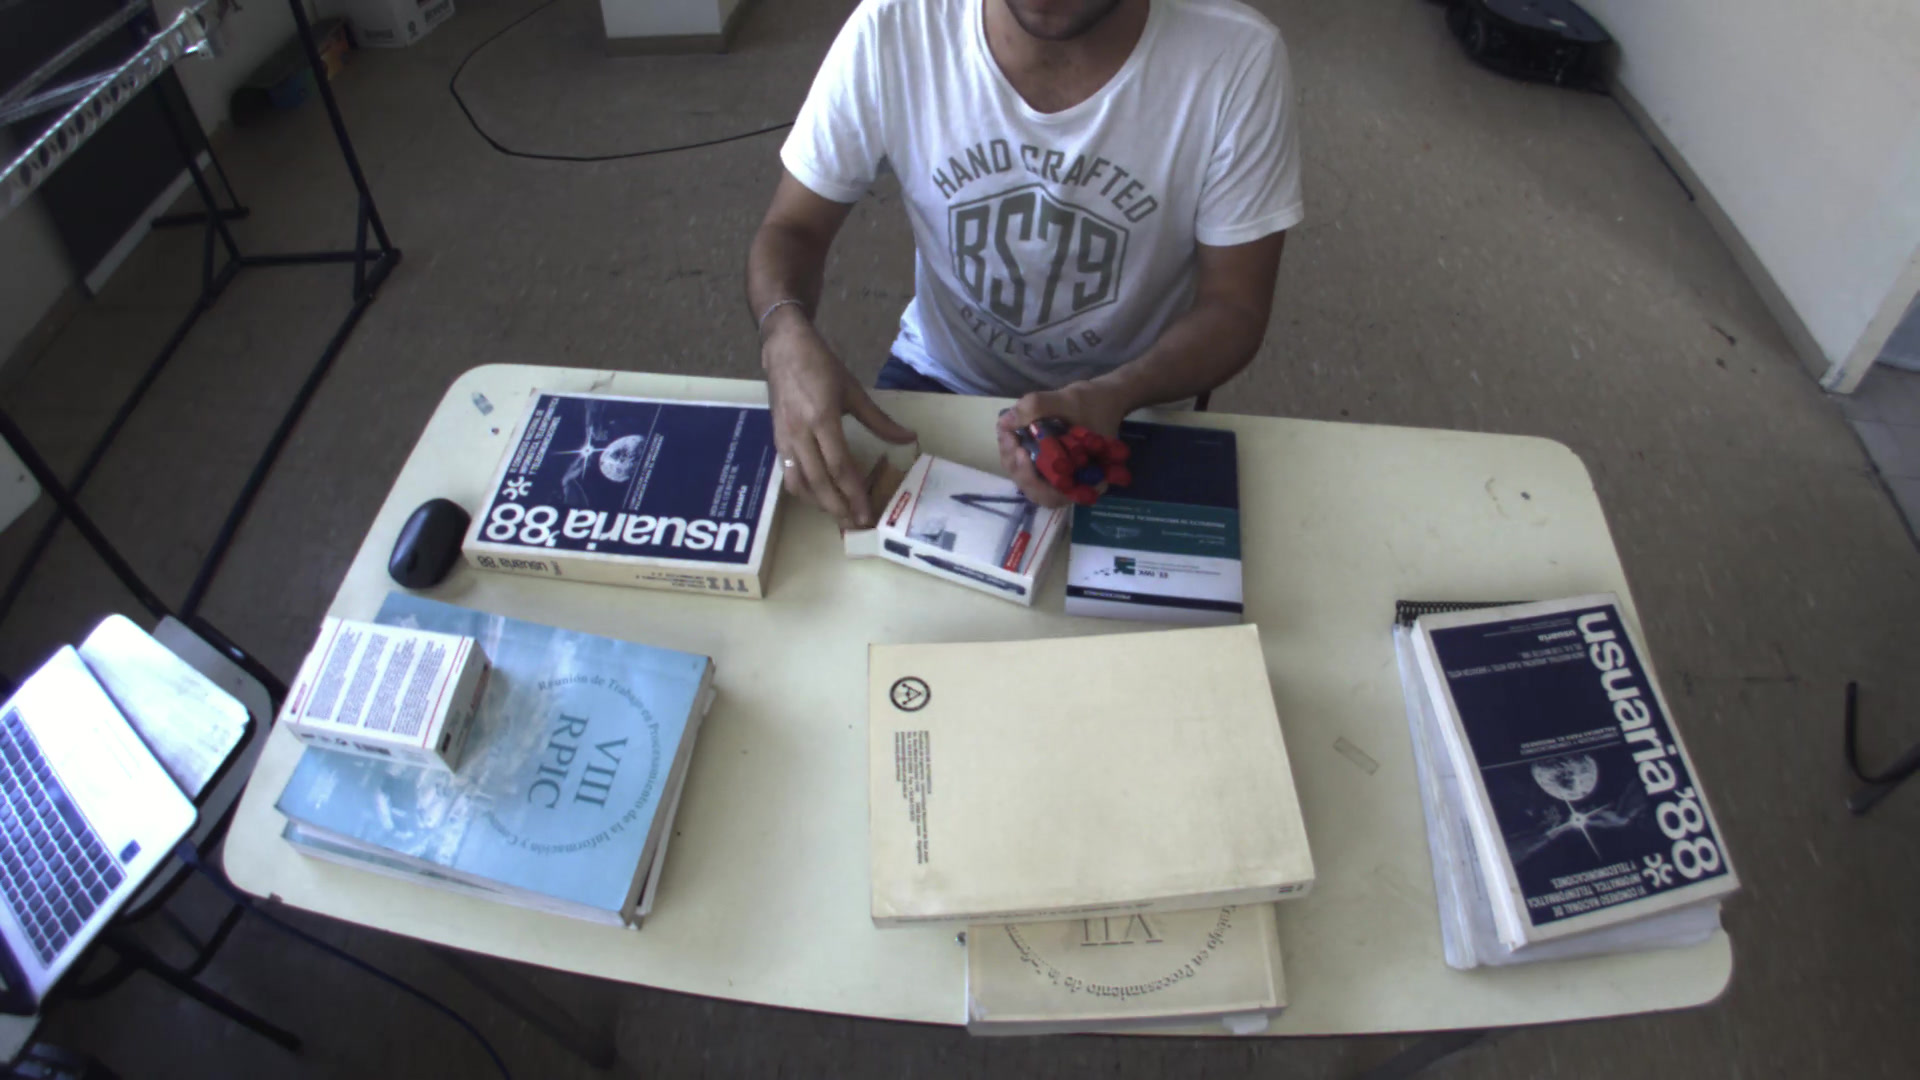hand: (748, 306, 924, 537), (989, 407, 1150, 510)
